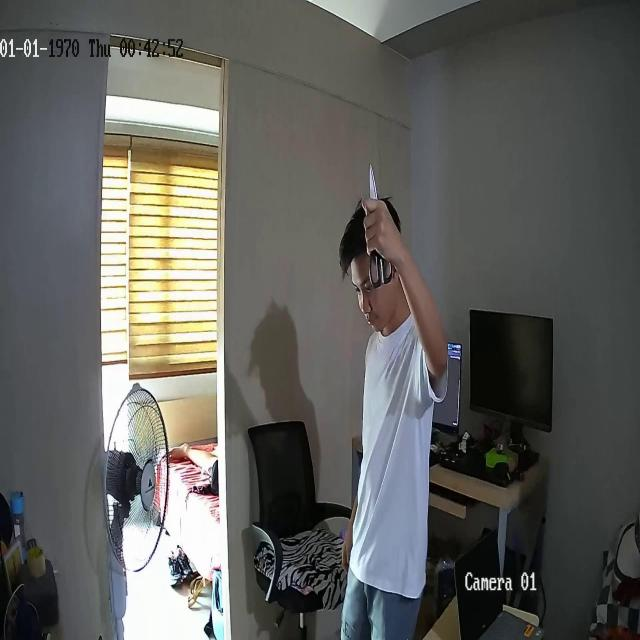scissor: (368, 162, 393, 287)
